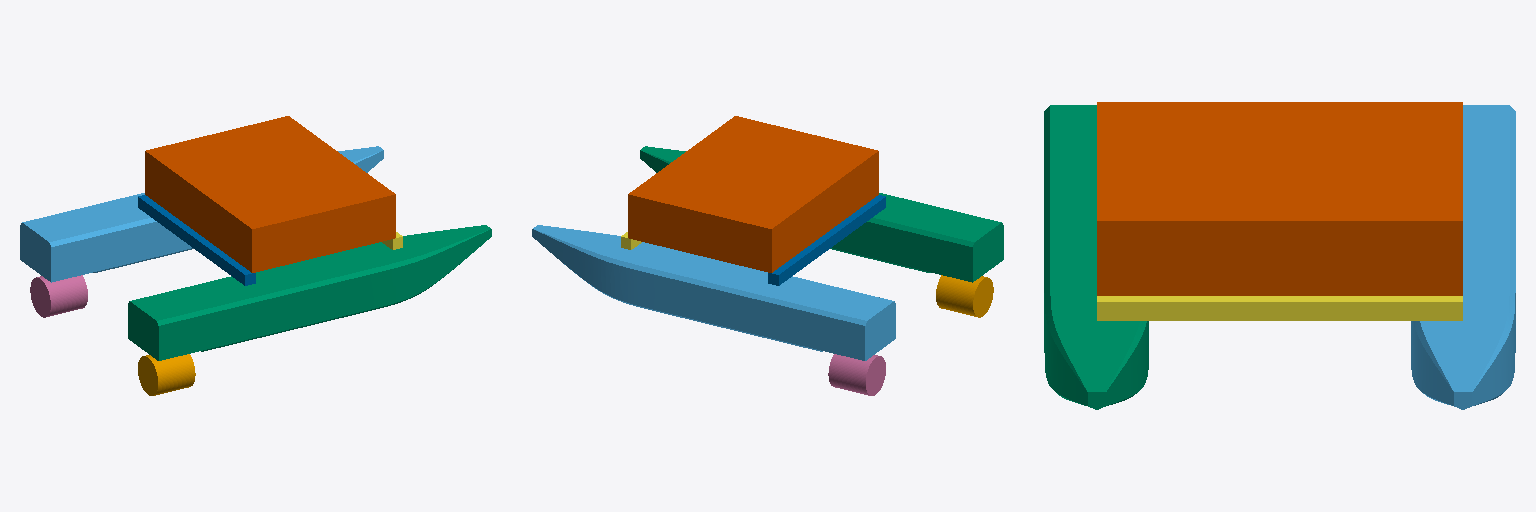
robot.urdf — ASV:
<?xml version="1.0"?>
<!-- =====================================================================
     ASV Kamatech - URDF dengan joint lengkap
     Dibenahi dari keluaran ACDC4Robot (ASV.sdf / ASV.urdf).

     YANG DIUBAH dari keluaran asli:
       1. Nama link dibuat unik (asli: 3 pasang nama kembar)
       2. base_link + 9 joint ditambahkan (asli: 0 joint)
       3. filename mesh: "meshes/x.stl" -> "package://asv_description/meshes/x.stl"
          (path relatif tidak bisa di-resolve oleh ROS)

     Massa, inersia, mesh, dan collision SENGAJA dibiarkan apa adanya
     supaya kelihatan jelas apa yang berubah. Keduanya masih bermasalah:
       - massa 3 komponen pakai densitas baja 7850 (total 65,9 kg -> tenggelam)
       - collision pakai mesh (dartsim tidak bisa, gagal diam-diam)
     Dua itu sudah dibenahi di asv.urdf.xacro. File ini untuk verifikasi
     pohon (check_urdf) dan cek visual di RViz, bukan untuk Gazebo.

     Angka <origin> diambil langsung dari <pose> tiap link di ASV.sdf,
     dibulatkan ke 6 desimal (sisanya noise CAD orde mikron).
     ===================================================================== -->
<robot name="ASV">

  <!-- ============================ ROOT ============================ -->
  <!-- base_link: frame acuan kapal, tanpa geometri.
       Inilah satu-satunya link yang tidak pernah jadi <child>. -->
  <link name="base_link">
    <inertial>
      <origin xyz="0 0 0" rpy="0 0 0"/>
      <mass value="0.001"/>
      <inertia ixx="1e-6" ixy="0" ixz="0" iyy="1e-6" iyz="0" izz="1e-6"/>
    </inertial>
  </link>

  <!-- ====================== LAMBUNG KIRI (+y) ===================== -->
  <link name="hull_left">
    <inertial>
      <origin xyz="0.284273 -0.00000056 0.043859" rpy="0 0 0"/>
      <mass value="0.5964042774866632"/>
      <inertia ixx="0.001277945241257565"  ixy="2.203418842609134e-08"
               ixz="-0.0002833654369287981" iyy="0.019489107158087864"
               iyz="-1.645273492965893e-09" izz="0.019726575236940012"/>
    </inertial>
    <visual name="hull_left_visual">
      <origin xyz="0 0 0" rpy="0 0 0"/>
      <geometry>
        <mesh filename="package://asv_description/meshes/Body-Kapal-URDF-v4.stl" scale="0.001 0.001 0.001"/>
      </geometry>
    </visual>
    <collision name="hull_left_collision">
      <origin xyz="0 0 0" rpy="0 0 0"/>
      <geometry>
        <mesh filename="package://asv_description/meshes/Body-Kapal-URDF-v4.stl" scale="0.001 0.001 0.001"/>
      </geometry>
    </collision>
  </link>

  <joint name="base_to_hull_left" type="fixed">
    <parent link="base_link"/>
    <child  link="hull_left"/>
    <origin xyz="-0.340425 0.175000 -0.080000" rpy="0 0 0"/>
  </joint>

  <!-- ====================== LAMBUNG KANAN (-y) ==================== -->
  <link name="hull_right">
    <inertial>
      <origin xyz="0.284273 -0.00000056 0.043859" rpy="0 0 0"/>
      <mass value="0.5964042774866632"/>
      <inertia ixx="0.0012779452412575686" ixy="2.2034188423489254e-08"
               ixz="-0.0002833654369287981" iyy="0.019489107158087864"
               iyz="-1.645273493399575e-09"  izz="0.01972657523694"/>
    </inertial>
    <visual name="hull_right_visual">
      <origin xyz="0 0 0" rpy="0 0 0"/>
      <geometry>
        <mesh filename="package://asv_description/meshes/Body-Kapal-URDF-v4.stl" scale="0.001 0.001 0.001"/>
      </geometry>
    </visual>
    <collision name="hull_right_collision">
      <origin xyz="0 0 0" rpy="0 0 0"/>
      <geometry>
        <mesh filename="package://asv_description/meshes/Body-Kapal-URDF-v4.stl" scale="0.001 0.001 0.001"/>
      </geometry>
    </collision>
  </link>

  <joint name="base_to_hull_right" type="fixed">
    <parent link="base_link"/>
    <child  link="hull_right"/>
    <origin xyz="-0.340425 -0.175000 -0.080000" rpy="0 0 0"/>
  </joint>

  <!-- ================== BALOK SILANG DEPAN (+x) =================== -->
  <!-- Mesh membentang Y dari 0 sampai 350 mm, jadi joint ditaruh di
       y = -0.175 supaya balok merentang penuh -0.175 .. +0.175 -->
  <link name="beam_fore">
    <inertial>
      <origin xyz="0 0.175000 0" rpy="0 0 0"/>
      <mass value="1.099"/>
      <inertia ixx="0.011255591666666663" ixy="0" ixz="0"
               iyy="7.326666666666523e-05" iyz="0"
               izz="0.011255591666666658"/>
    </inertial>
    <visual name="beam_fore_visual">
      <origin xyz="0 0 0" rpy="0 0 0"/>
      <geometry>
        <mesh filename="package://asv_description/meshes/Urdf-Alprof-v2.stl" scale="0.001 0.001 0.001"/>
      </geometry>
    </visual>
    <collision name="beam_fore_collision">
      <origin xyz="0 0 0" rpy="0 0 0"/>
      <geometry>
        <mesh filename="package://asv_description/meshes/Urdf-Alprof-v2.stl" scale="0.001 0.001 0.001"/>
      </geometry>
    </collision>
  </link>

  <joint name="base_to_beam_fore" type="fixed">
    <parent link="base_link"/>
    <child  link="beam_fore"/>
    <origin xyz="0.138575 -0.175000 0.010000" rpy="0 0 0"/>
  </joint>

  <!-- ================== BALOK SILANG BELAKANG (-x) ================ -->
  <link name="beam_aft">
    <inertial>
      <origin xyz="0 0.175000 0" rpy="0 0 0"/>
      <mass value="1.099"/>
      <inertia ixx="0.011255591666666663" ixy="0" ixz="0"
               iyy="7.326666666666523e-05" iyz="0"
               izz="0.011255591666666658"/>
    </inertial>
    <visual name="beam_aft_visual">
      <origin xyz="0 0 0" rpy="0 0 0"/>
      <geometry>
        <mesh filename="package://asv_description/meshes/Urdf-Alprof-v2.stl" scale="0.001 0.001 0.001"/>
      </geometry>
    </visual>
    <collision name="beam_aft_collision">
      <origin xyz="0 0 0" rpy="0 0 0"/>
      <geometry>
        <mesh filename="package://asv_description/meshes/Urdf-Alprof-v2.stl" scale="0.001 0.001 0.001"/>
      </geometry>
    </collision>
  </link>

  <joint name="base_to_beam_aft" type="fixed">
    <parent link="base_link"/>
    <child  link="beam_aft"/>
    <origin xyz="-0.138575 -0.175000 0.010000" rpy="0 0 0"/>
  </joint>

  <!-- ====================== KOTAK ELEKTRONIK ====================== -->
  <link name="box_electronics">
    <inertial>
      <origin xyz="0 0 0.039500" rpy="0 0 0"/>
      <mass value="58.604175"/>
      <inertia ixx="0.6287300078062501" ixy="0" ixz="-4.5693013255030614e-17"
               iyy="0.38649941780624997" iyz="4.5693013817071933e-17"
               izz="0.9542713162499998"/>
    </inertial>
    <visual name="box_electronics_visual">
      <origin xyz="0 0 0" rpy="0 0 0"/>
      <geometry>
        <mesh filename="package://asv_description/meshes/Kotak-Urdf-v3.stl" scale="0.001 0.001 0.001"/>
      </geometry>
    </visual>
    <collision name="box_electronics_collision">
      <origin xyz="0 0 0" rpy="0 0 0"/>
      <geometry>
        <mesh filename="package://asv_description/meshes/Kotak-Urdf-v3.stl" scale="0.001 0.001 0.001"/>
      </geometry>
    </collision>
  </link>

  <joint name="base_to_box" type="fixed">
    <parent link="base_link"/>
    <child  link="box_electronics"/>
    <origin xyz="0 0 0.020000" rpy="0 0 0"/>
  </joint>

  <!-- ===================== THRUSTER KIRI (+y) ===================== -->
  <!-- yaw 90 deg: sumbu +Y lokal thruster mengarah ke buritan kapal -->
  <link name="thruster_left">
    <inertial>
      <origin xyz="0 0.035000 0.000141" rpy="0 0 0"/>
      <mass value="1.9445389533338442"/>
      <inertia ixx="0.0013453101569077253" ixy="1.2843225124217038e-17"
               ixz="-6.9388939039072276e-18" iyy="0.0010976420577002433"
               iyz="-1.2342346868745996e-20"  izz="0.0013348046764057042"/>
    </inertial>
    <visual name="thruster_left_visual">
      <origin xyz="0 0 0" rpy="0 0 0"/>
      <geometry>
        <mesh filename="package://asv_description/meshes/Thruster-URDF-v1.stl" scale="0.001 0.001 0.001"/>
      </geometry>
    </visual>
    <collision name="thruster_left_collision">
      <origin xyz="0 0 0" rpy="0 0 0"/>
      <geometry>
        <mesh filename="package://asv_description/meshes/Thruster-URDF-v1.stl" scale="0.001 0.001 0.001"/>
      </geometry>
    </collision>
  </link>

  <joint name="base_to_thruster_left" type="fixed">
    <parent link="base_link"/>
    <child  link="thruster_left"/>
    <origin xyz="-0.261425 0.175000 -0.119100" rpy="0 0 1.5707963267949"/>
  </joint>

  <!-- Propeller dummy kiri.
       TIDAK ada di CAD-mu - thruster diekspor sebagai satu benda utuh.
       Plugin gz Thruster wajib diberi joint revolute untuk diputar,
       jadi link ini dibuat tanpa visual. Kalau mau propellernya benar-benar
       terlihat berputar, pisahkan body propeller di Fusion lalu ganti ini. -->
  <link name="prop_left">
    <inertial>
      <origin xyz="0 0 0" rpy="0 0 0"/>
      <mass value="0.01"/>
      <inertia ixx="1e-6" ixy="0" ixz="0" iyy="1e-6" iyz="0" izz="1e-6"/>
    </inertial>
  </link>

  <joint name="prop_joint_left" type="continuous">
    <parent link="thruster_left"/>
    <child  link="prop_left"/>
    <origin xyz="0 0.070000 0" rpy="0 0 0"/>
    <axis xyz="0 1 0"/>
  </joint>

  <!-- ==================== THRUSTER KANAN (-y) ===================== -->
  <link name="thruster_right">
    <inertial>
      <origin xyz="0 0.035000 0.000141" rpy="0 0 0"/>
      <mass value="1.9445389533338442"/>
      <inertia ixx="0.0013453101569077253" ixy="1.2843225124217038e-17"
               ixz="0" iyy="0.0010976420577002433"
               iyz="0" izz="0.0013348046764057042"/>
    </inertial>
    <visual name="thruster_right_visual">
      <origin xyz="0 0 0" rpy="0 0 0"/>
      <geometry>
        <mesh filename="package://asv_description/meshes/Thruster-URDF-v1.stl" scale="0.001 0.001 0.001"/>
      </geometry>
    </visual>
    <collision name="thruster_right_collision">
      <origin xyz="0 0 0" rpy="0 0 0"/>
      <geometry>
        <mesh filename="package://asv_description/meshes/Thruster-URDF-v1.stl" scale="0.001 0.001 0.001"/>
      </geometry>
    </collision>
  </link>

  <joint name="base_to_thruster_right" type="fixed">
    <parent link="base_link"/>
    <child  link="thruster_right"/>
    <origin xyz="-0.261425 -0.175000 -0.119100" rpy="0 0 1.5707963267949"/>
  </joint>

  <link name="prop_right">
    <inertial>
      <origin xyz="0 0 0" rpy="0 0 0"/>
      <mass value="0.01"/>
      <inertia ixx="1e-6" ixy="0" ixz="0" iyy="1e-6" iyz="0" izz="1e-6"/>
    </inertial>
  </link>

  <joint name="prop_joint_right" type="continuous">
    <parent link="thruster_right"/>
    <child  link="prop_right"/>
    <origin xyz="0 0.070000 0" rpy="0 0 0"/>
    <axis xyz="0 1 0"/>
  </joint>

</robot>

--- Render facts (derived) ---
The picture shows the robot from 3 angles, left to right: view 1: azimuth 30°, elevation 25°; view 2: azimuth 150°, elevation 25°; view 3: azimuth 270°, elevation 25°; orthographic projection.
Robot: ASV — 10 links, 9 joints (2 continuous, 7 fixed); root link base_link; default pose: every joint at zero.
Links seen in each view (by area): view 1: box_electronics, hull_right, hull_left, beam_aft, thruster_left, thruster_right; view 2: box_electronics, hull_left, hull_right, beam_aft, thruster_right, thruster_left; view 3: box_electronics, hull_left, hull_right, beam_fore.
Boxes of the visible links, bbox=[...] form: box_electronics: bbox=[145, 116, 395, 272]; hull_right: bbox=[128, 225, 491, 360]; hull_left: bbox=[20, 146, 383, 282]; beam_aft: bbox=[138, 195, 255, 285]; thruster_left: bbox=[30, 275, 87, 317]; thruster_right: bbox=[138, 354, 195, 395]; box_electronics: bbox=[628, 116, 878, 272]; hull_left: bbox=[532, 225, 895, 360]; hull_right: bbox=[640, 146, 1003, 282]; beam_aft: bbox=[768, 195, 885, 285]; thruster_right: bbox=[936, 275, 993, 317]; thruster_left: bbox=[828, 354, 885, 395]; box_electronics: bbox=[1097, 102, 1462, 295]; hull_left: bbox=[1411, 105, 1515, 409]; hull_right: bbox=[1044, 105, 1148, 409]; beam_fore: bbox=[1097, 296, 1462, 320].
Size in the robot's own frame: 0.65 by 0.45 by 0.2516 metres.
Meshes: 4 distinct files referenced, 7 mesh visuals loaded (4 binary STL).
